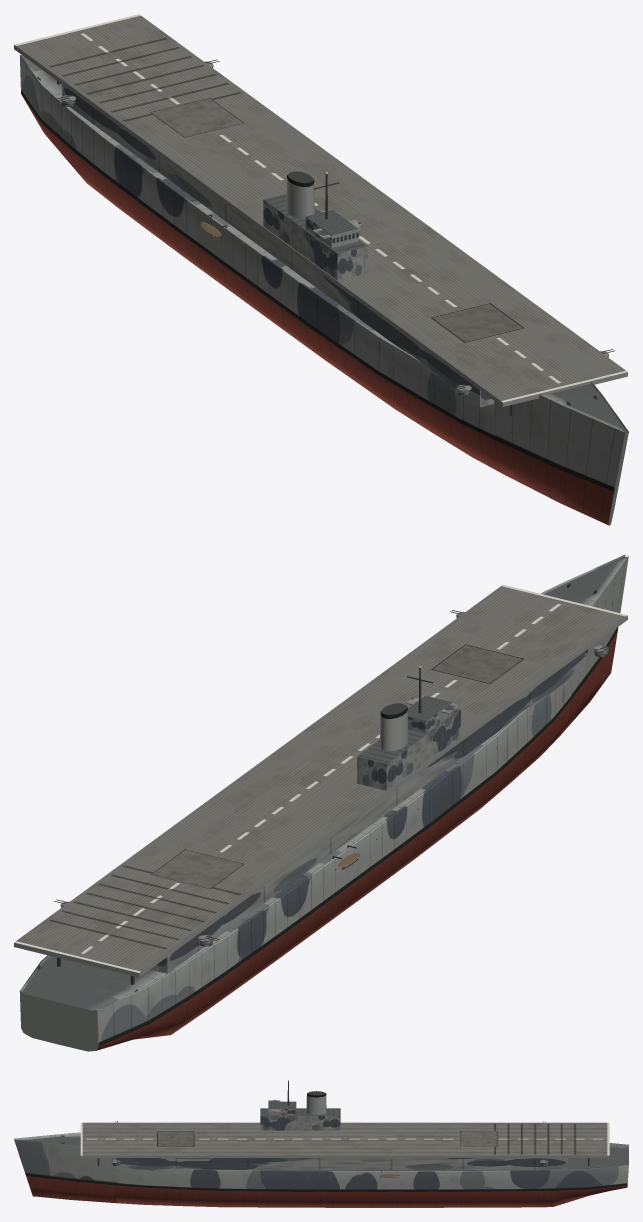
The model's file is carrier.glb.
The picture shows the model from 3 angles, top to bottom: view 1: azimuth 30°, elevation 25°; view 2: azimuth 150°, elevation 25°; view 3: azimuth 270°, elevation 25°; orthographic projection. The views are drawn at different scales.
Visible parts, largest first — view 1: hull, ascenseur; view 2: hull, ascenseur; view 3: hull, ascenseur.
Part boxes in pixels (x1,y1,x2,y2): hull: (14,14,628,525); ascenseur: (431,303,523,342); hull: (14,554,628,1051); ascenseur: (431,644,524,683); hull: (14,1080,628,1207); ascenseur: (157,1131,193,1146).
Bounding box in the file's own units: 38 × 42.82 × 230.
Materials: 7 (6 with a texture image).
